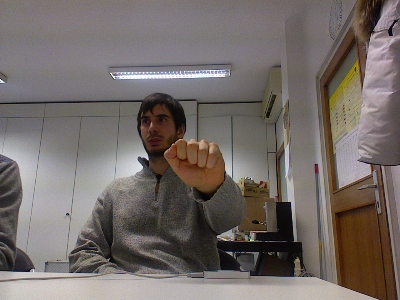石头: (161, 135, 227, 192)
